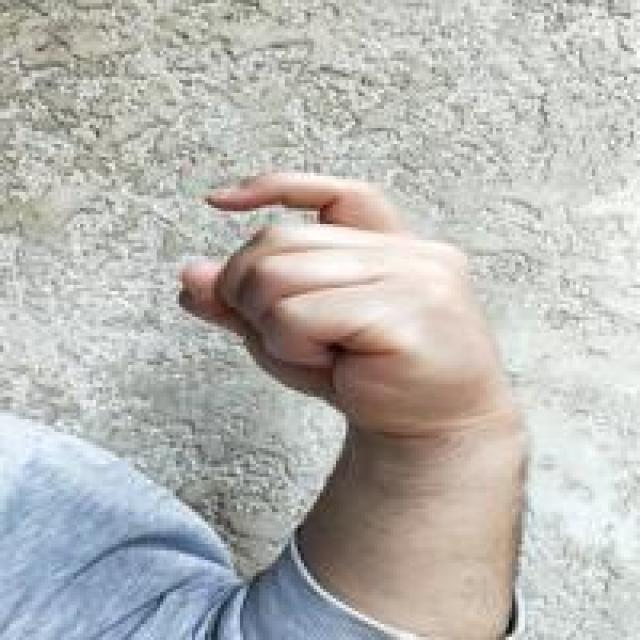X: (170, 170, 515, 454)
